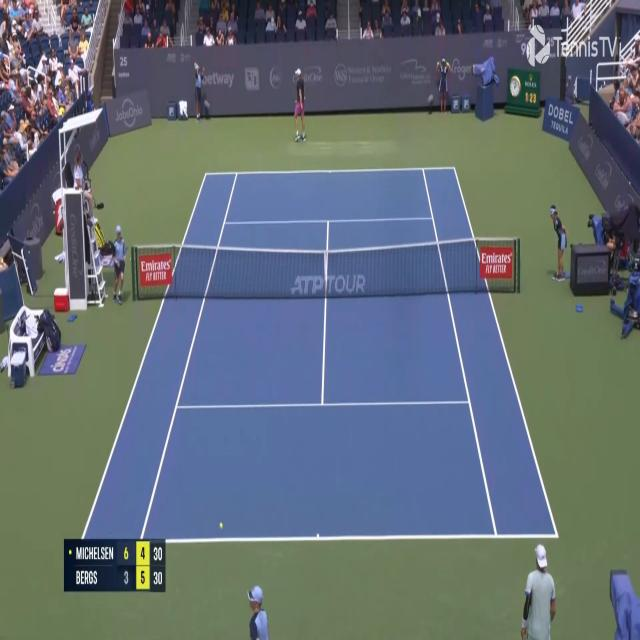tennis-player: (520, 544, 557, 639), (292, 67, 307, 142)
